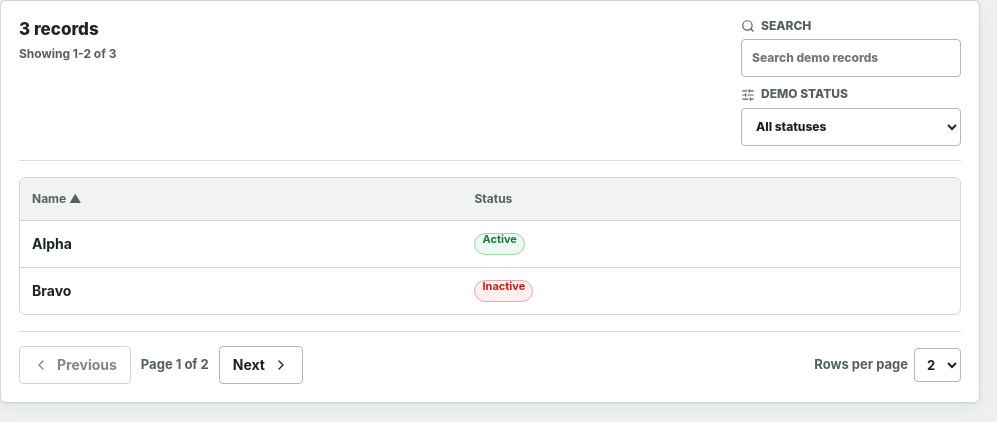
Scenario: RegisterTable › searches and filters visible records
Expected: the heading "3 records" is shown, [19,19,99,39]
Type "charlie" into the field with placeholder "Search demo records" at (851, 58), box [741,39,961,77]
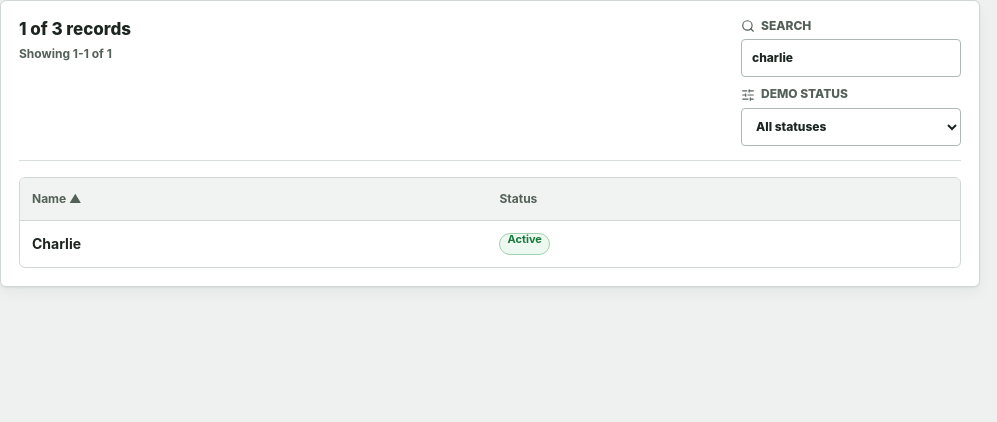
Now the text "Charlie" is shown, box [32,235,81,252]
Now the text "Alpha" is gone
Clear the field with placeholder "Search demo records" at (851, 58), box [741,39,961,77]
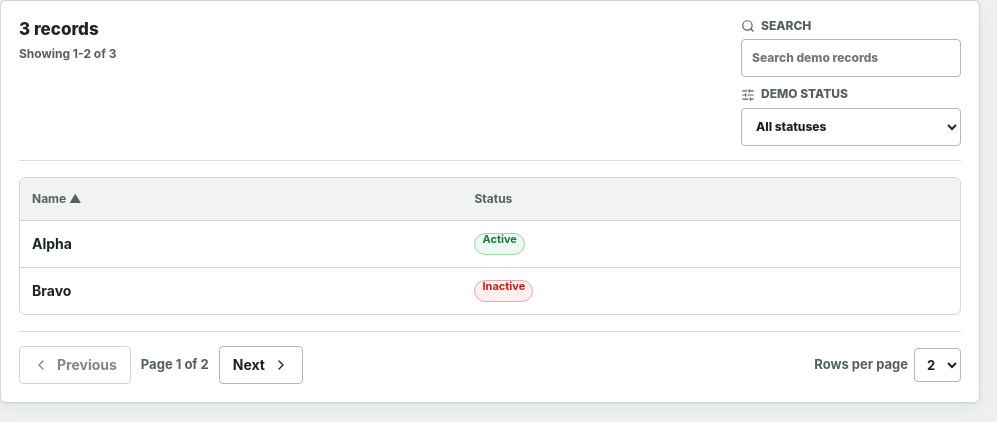
Select "Inactive" in the dropdown labelled "Demo status" at (851, 127), box [741,108,961,146]
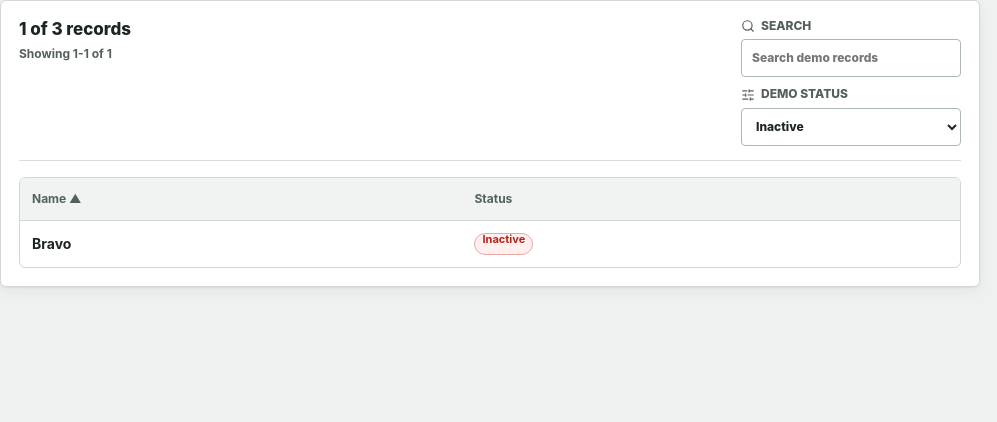
Now the text "Bravo" is shown, box [32,235,71,252]
Now the text "Alpha" is gone
